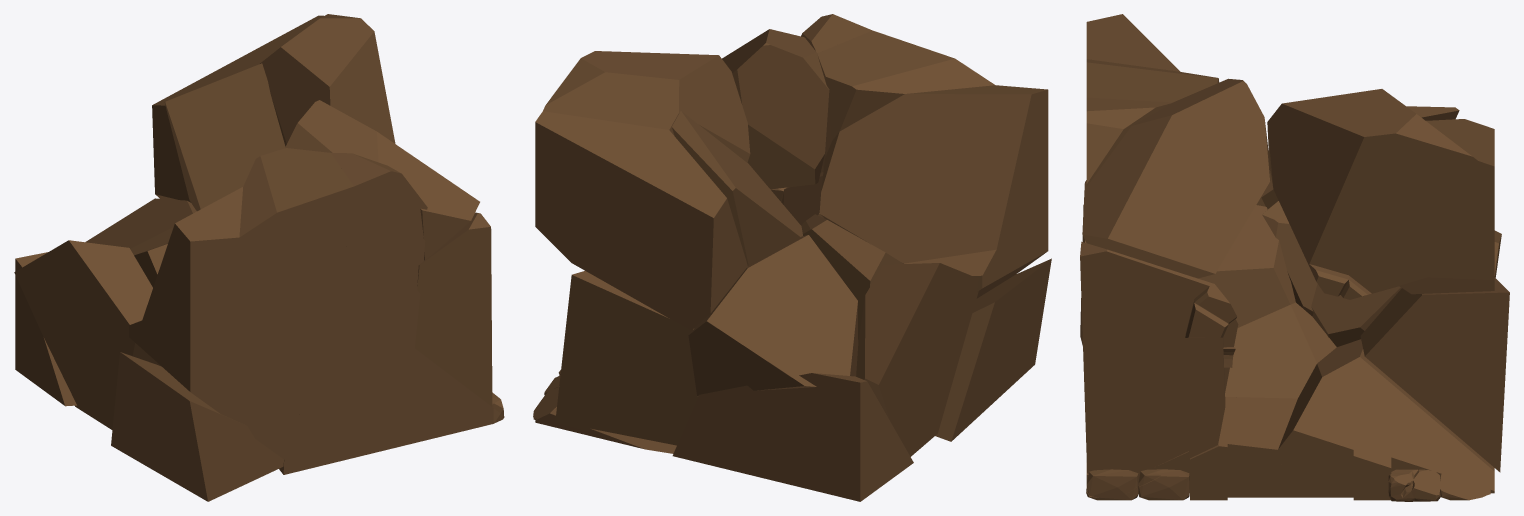
File: SM_debris_tower_base.fbx
3 renders of one model, left to right at view 1: azimuth 30°, elevation 25°; view 2: azimuth 150°, elevation 25°; view 3: azimuth 270°, elevation 25°, orthographic. The views are drawn at different scales.
Parts seen in each view (by area): view 1: debris_tower_base; view 2: debris_tower_base; view 3: debris_tower_base.
Boxes of the visible parts, x1,y1,x2,y2 form: debris_tower_base: (14, 14, 504, 501); debris_tower_base: (533, 14, 1051, 501); debris_tower_base: (1080, 14, 1509, 501).
Bounding box in the file's own units: 544 × 506 × 527.
